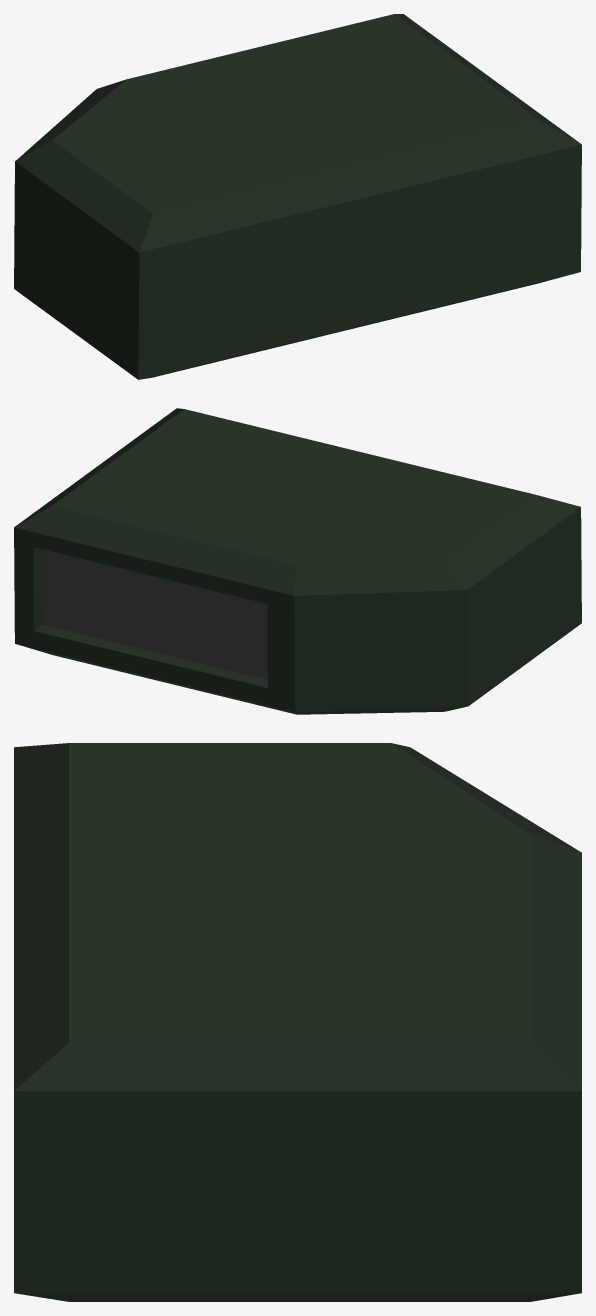
File: MagM249.fbx
The picture shows the model from 3 angles, top to bottom: view 1: azimuth 30°, elevation 25°; view 2: azimuth 150°, elevation 25°; view 3: azimuth 270°, elevation 25°; orthographic projection. The views are drawn at different scales.
Visible parts, largest first — view 1: Cube; view 2: Cube; view 3: Cube.
Part boxes in pixels (box(x1,y1,x2,y2)): Cube: box(14, 14, 581, 379); Cube: box(14, 408, 581, 714); Cube: box(14, 743, 581, 1301).
Size of the model in its own units: 0.1628 by 0.0572 by 0.1133.
